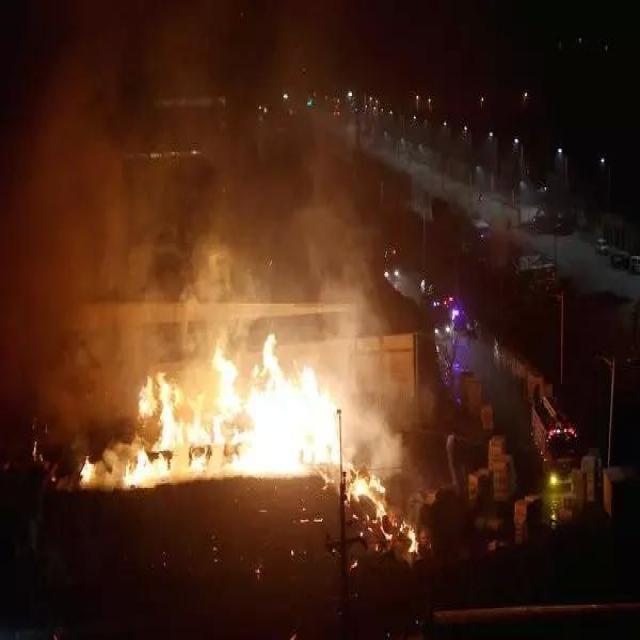Fire: (81, 332, 331, 490), (348, 466, 386, 516)
Smoke: (1, 4, 378, 326)
